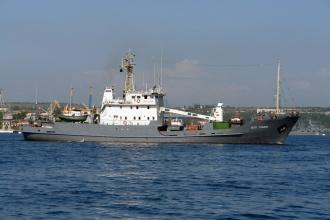warship: (21, 50, 298, 144)
